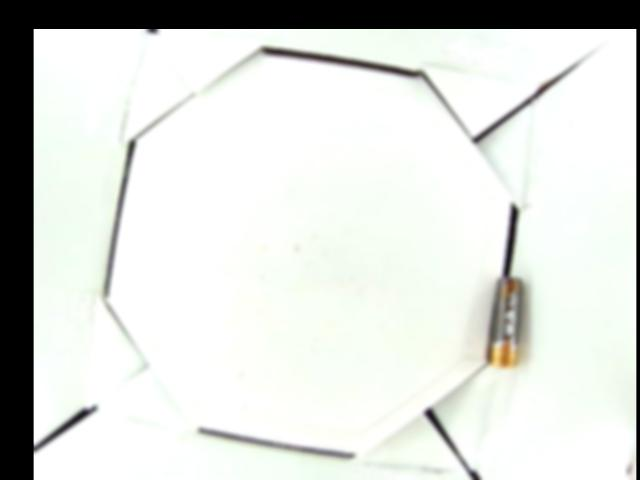Battery: (489, 277, 524, 369)
